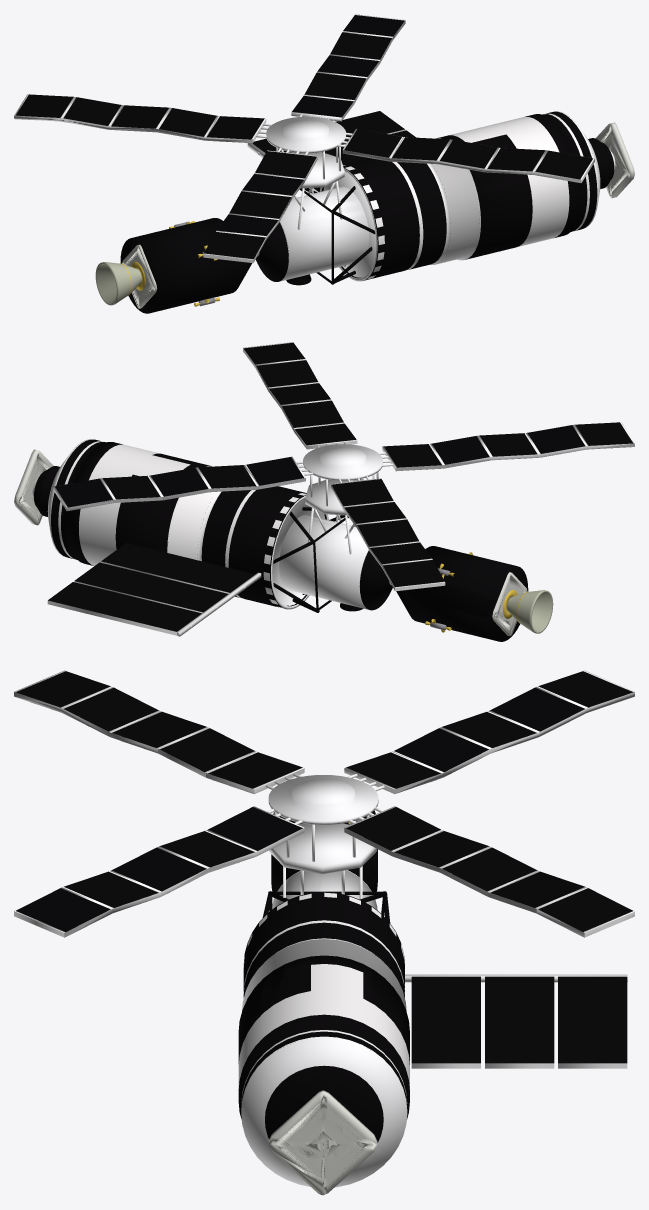
File: space-skylab.glb
3 views of the same model, one above another, from view 1: azimuth 30°, elevation 25°; view 2: azimuth 150°, elevation 25°; view 3: azimuth 270°, elevation 25° (orthographic). The views are drawn at different scales.
Parts seen in each view (by area): view 1: polySurfac; view 2: polySurfac; view 3: polySurfac.
Boxes of the visible parts, x1=… form: polySurfac: x1=14, y1=14, x2=634, y2=313; polySurfac: x1=14, y1=342, x2=634, y2=641; polySurfac: x1=14, y1=670, x2=634, y2=1195.
Bounding box in the file's own units: 38.74 × 11.78 × 29.85.
Materials: 4 (4 with a texture image).
